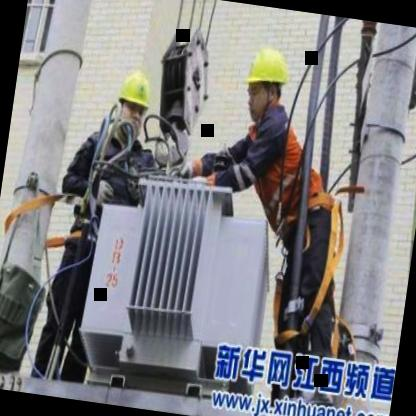helmet: (235, 38, 294, 126), (111, 63, 157, 134)
